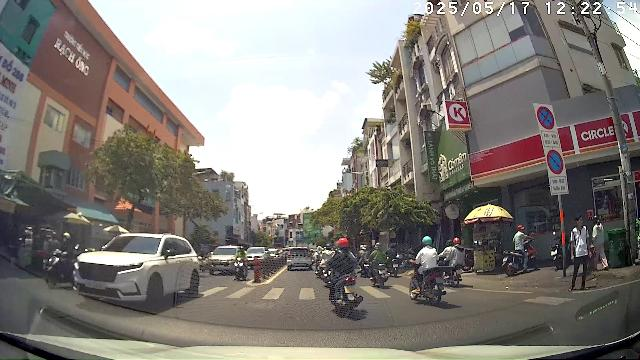130-cam-dung-va-do-xe: (537, 106, 555, 130)
131a-cam-do-xe: (546, 150, 564, 174)
